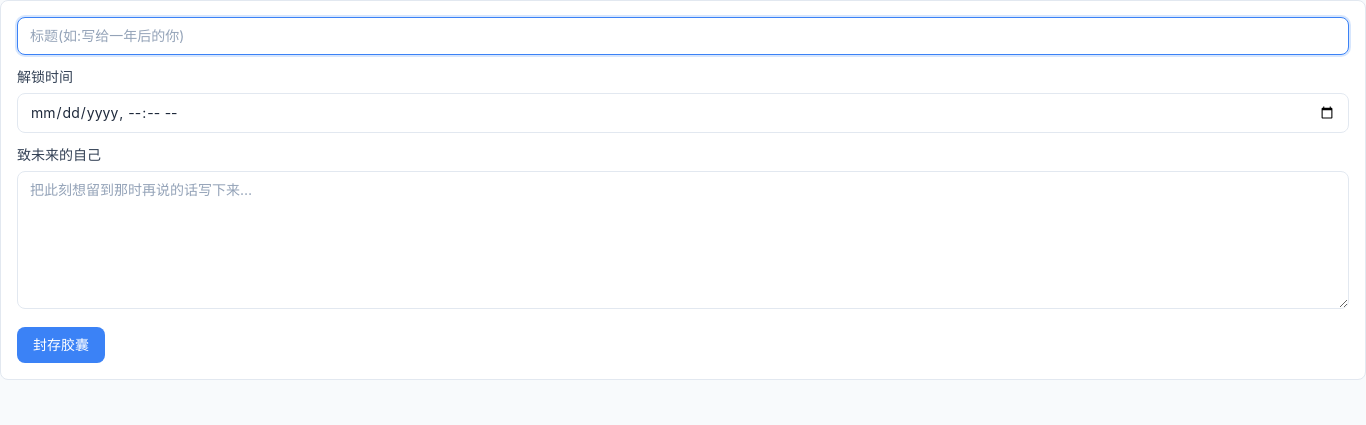
it: TimeCapsuleEditor › 正文空:提交显示"请写给未来自己的话"
Type "标题" into the field with placeholder "标题(如:写给一年后的你)" at {"x": 683, "y": 36}, box x1=17 y1=17 x2=1349 y2=55
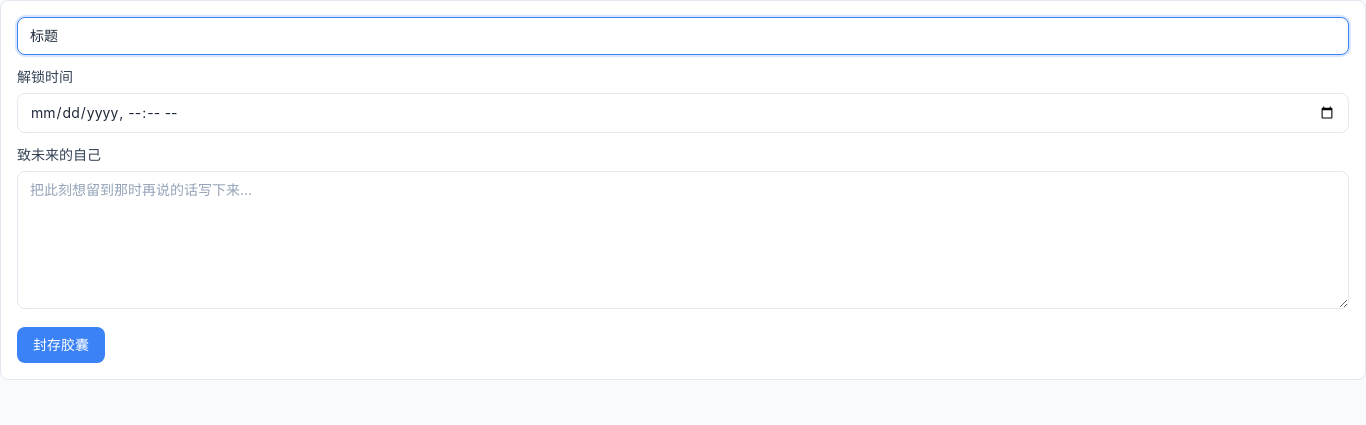
Click the button "封存胶囊" at {"x": 61, "y": 345}, box x1=17 y1=327 x2=105 y2=363
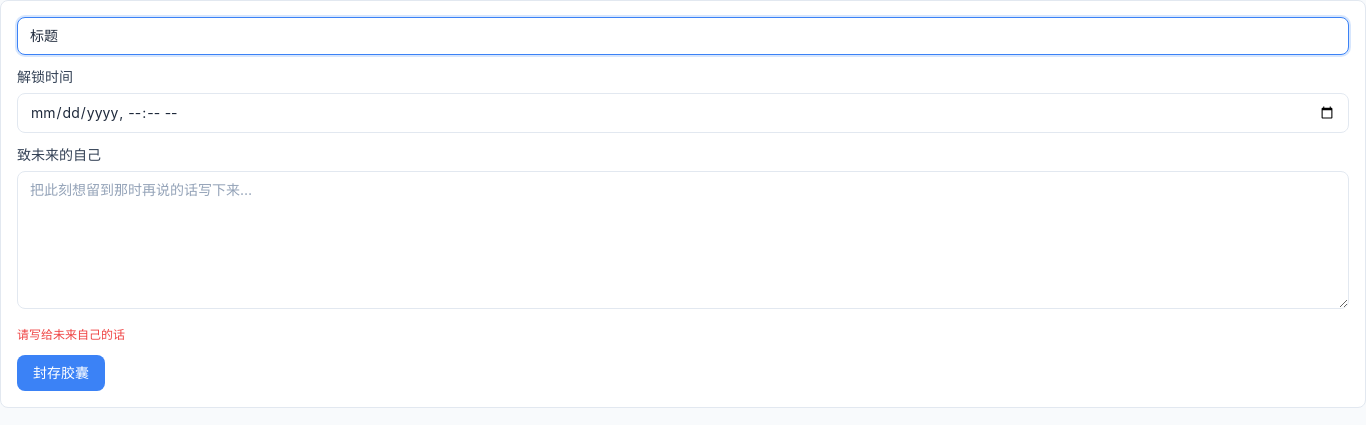
Result: the text "请写给未来自己的话" is shown at x1=17 y1=327 x2=125 y2=342
